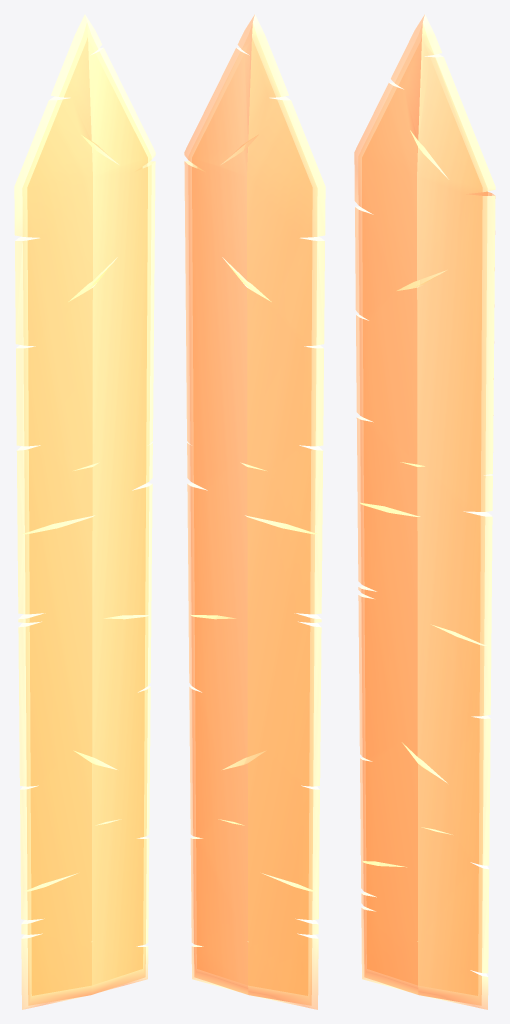
Rendered from wood_blade_scratched_069.glb.
3 views of the same model, side by side, from view 1: azimuth 30°, elevation 25°; view 2: azimuth 150°, elevation 25°; view 3: azimuth 330°, elevation 25° (orthographic).
Visible parts, largest first — view 1: wood_blade_scratched.069; view 2: wood_blade_scratched.069; view 3: wood_blade_scratched.069.
Boxes of the visible parts, x1,y1,x2,y2 form: wood_blade_scratched.069: [14, 14, 155, 1009]; wood_blade_scratched.069: [184, 14, 325, 1009]; wood_blade_scratched.069: [354, 14, 495, 1009].
Bounding box in the file's own units: 1.71 × 11.4 × 0.3369.
1 material, 1 textured.
